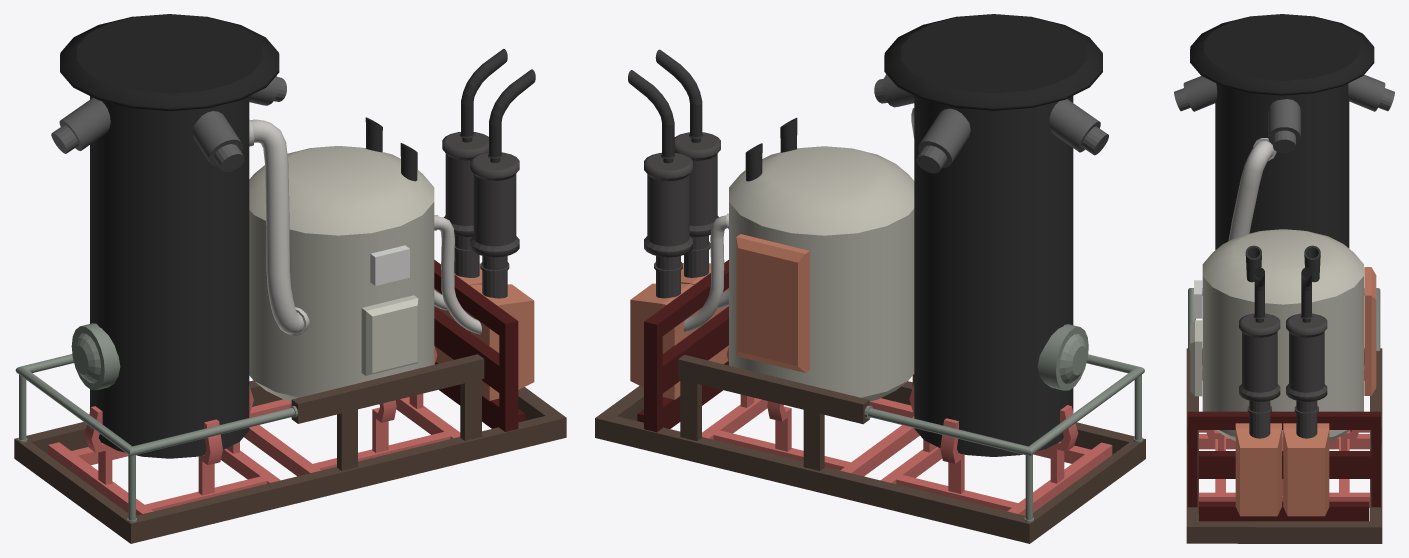
Rendered from Generator.FBX.
3 renders of one model, left to right at view 1: azimuth 30°, elevation 25°; view 2: azimuth 150°, elevation 25°; view 3: azimuth 270°, elevation 25°, orthographic. The views are drawn at different scales.
Visible parts, largest first — view 1: GeneratorLowPoly001; view 2: GeneratorLowPoly001; view 3: GeneratorLowPoly001.
Boxes of the visible parts, x1,y1,x2,y2 form: GeneratorLowPoly001: (14, 14, 566, 543); GeneratorLowPoly001: (595, 14, 1145, 543); GeneratorLowPoly001: (1174, 14, 1394, 543).
Bounding box in the file's own units: 152 × 133 × 74.71.
